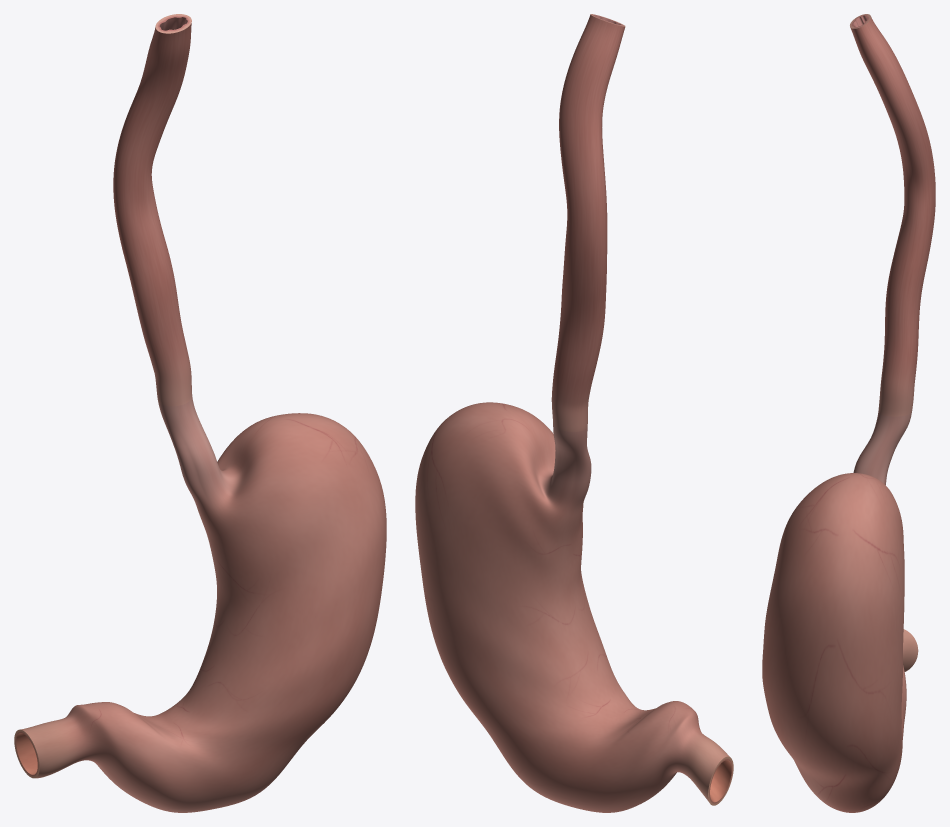
File: whole.glb
3 views of the same model, side by side, from view 1: azimuth 30°, elevation 25°; view 2: azimuth 150°, elevation 25°; view 3: azimuth 270°, elevation 25° (orthographic). The views are drawn at different scales.
Visible parts, largest first — view 1: Esophagus_and_Stomach; view 2: Esophagus_and_Stomach; view 3: Esophagus_and_Stomach.
Part boxes in pixels (x1,y1,x2,y2): Esophagus_and_Stomach: [14, 14, 386, 812]; Esophagus_and_Stomach: [415, 14, 733, 812]; Esophagus_and_Stomach: [762, 14, 935, 812].
Bounding box in the file's own units: 0.1801 × 0.4181 × 0.0856.
Materials: 22 (22 with a texture image).
